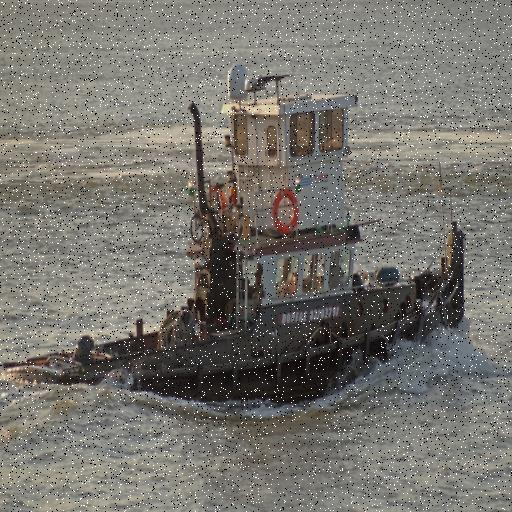tugboat: (1, 63, 470, 429)
